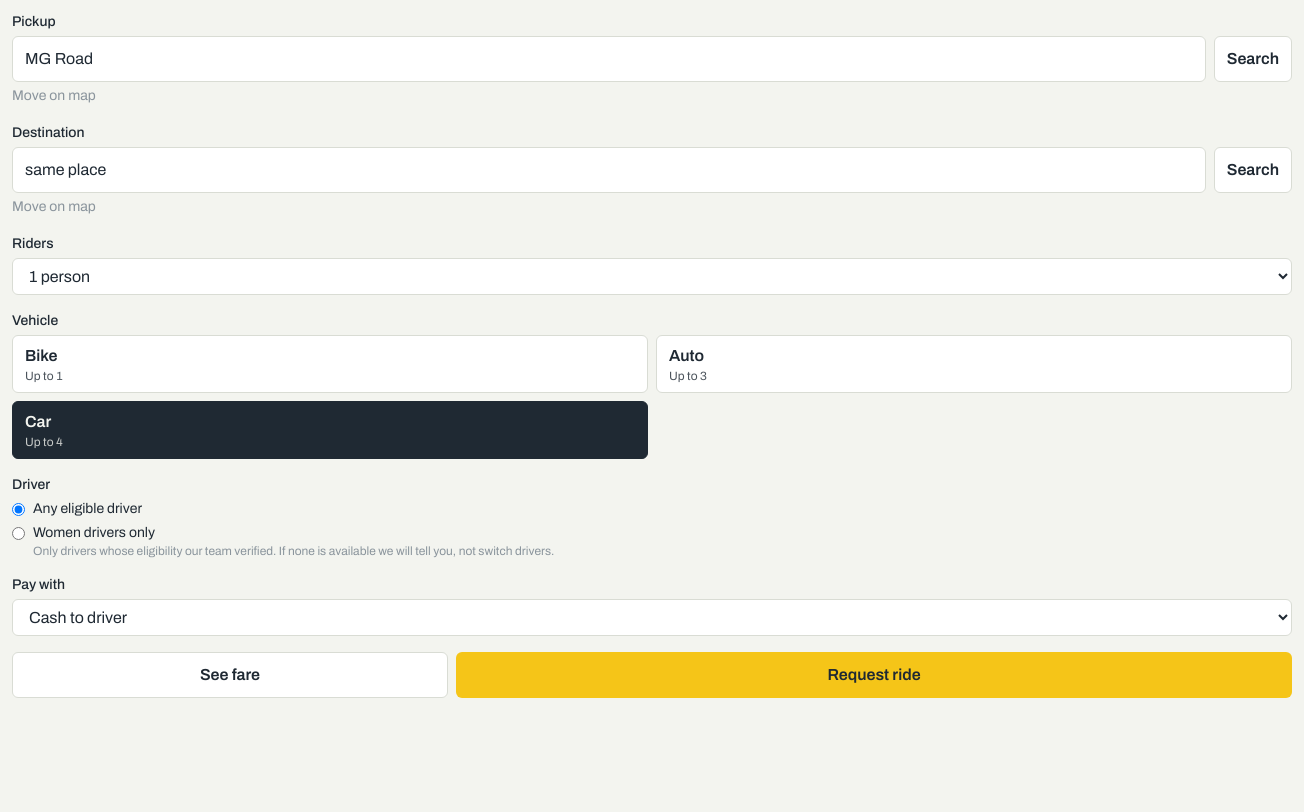
Test: #90 booking form › identical pickup and destination is rejected
Click the button "Request ride".
click(874, 675)  # box [456,652,1292,698]
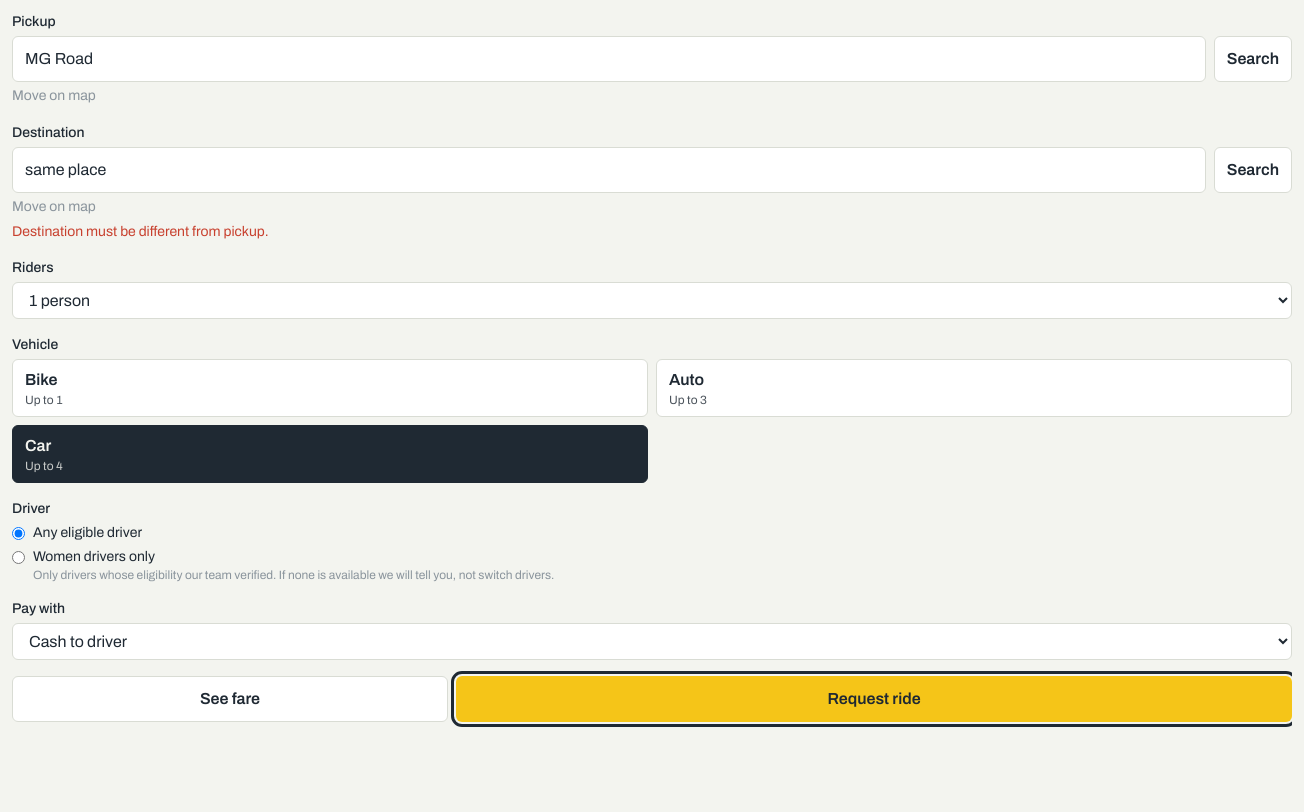
Expected: the text "Destination must be different from pickup." is shown, [12,224,269,239]
